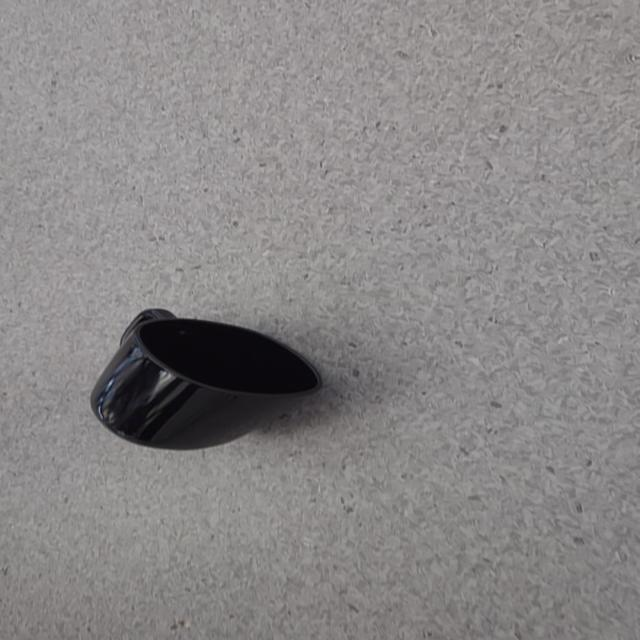mug: (88, 307, 323, 451)
